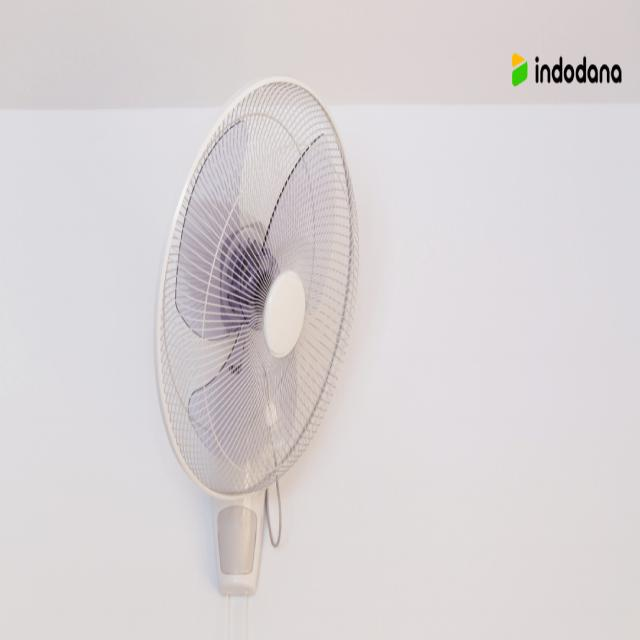fan: (153, 73, 365, 600)
